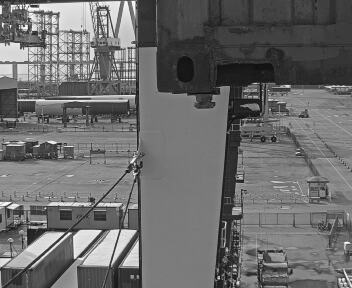twist_lock_1: (172, 163, 236, 202)
